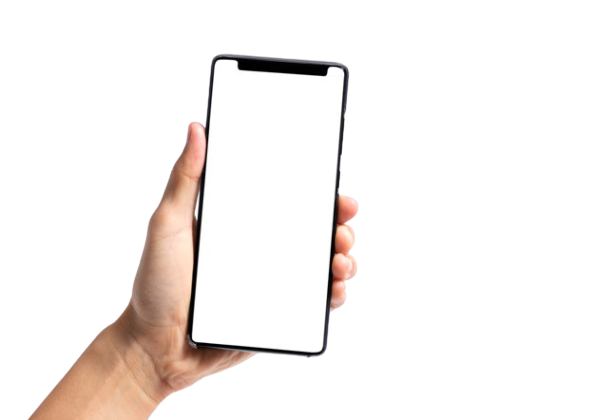phone: (184, 49, 355, 360)
